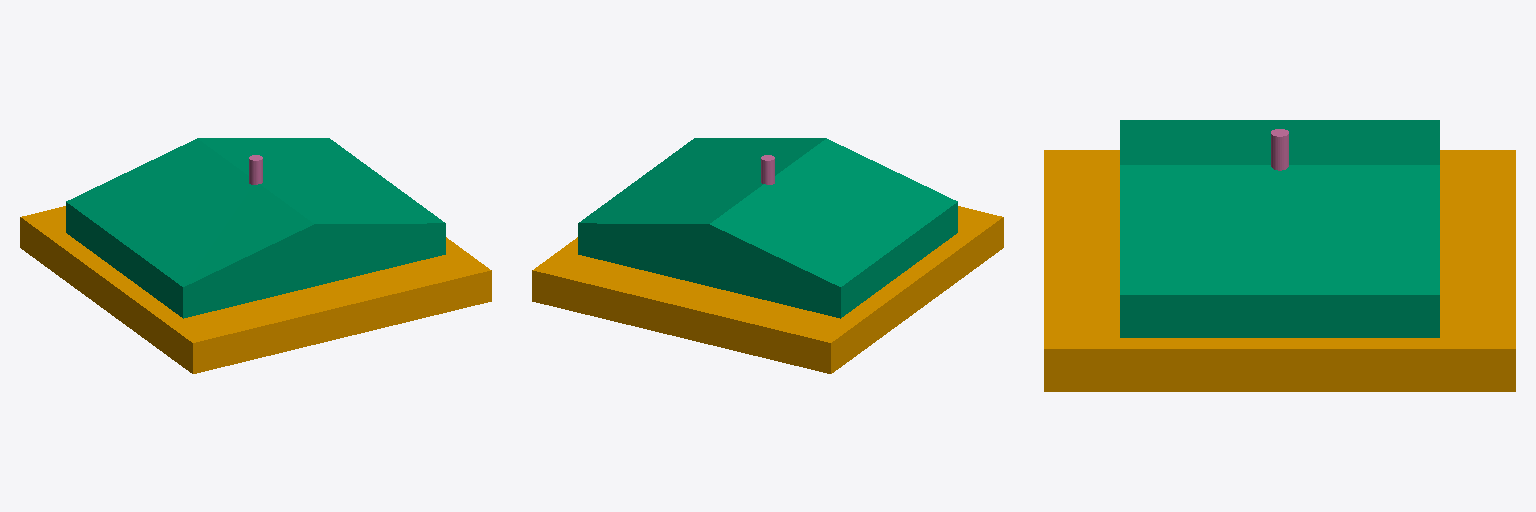
--- What the picture shows (computed from the rendered views, not written in the file) ---
Views: 3 orthographic renders of the robot side by side, from view 1: azimuth 30°, elevation 25°; view 2: azimuth 150°, elevation 25°; view 3: azimuth 270°, elevation 25°.
Robot: pagoda — 133 links, 132 joints (66 revolute, 66 prismatic); root link base_link; default pose: all joints at 0.
Links seen in each view (by area): view 1: Roof_link_virtual_yaw_link, base_link; view 2: Roof_link_virtual_yaw_link, base_link; view 3: Roof_link_virtual_yaw_link, base_link, Pole.010_link_virtual_yaw_link.
Link boxes in pixels (x1,y1,x2,y2): Roof_link_virtual_yaw_link: (66,138,445,318); base_link: (20,206,491,373); Roof_link_virtual_yaw_link: (578,138,957,318); base_link: (532,206,1003,373); Roof_link_virtual_yaw_link: (1120,120,1439,337); base_link: (1044,150,1515,391); Pole.010_link_virtual_yaw_link: (1271,129,1288,170).
Size in the robot's own frame: 0.5 by 0.5 by 0.1873 metres.
Meshes: 2 distinct files referenced, 2 mesh visuals loaded (2 binary STL).

robot.urdf — pagoda:
<?xml version='1.0' encoding='utf-8'?>
<robot name="pagoda" version="1.0">
  <link name="base_link">
    <collision name="Base_collision">
      <origin rpy="0.00000 0.00000 0.00000" xyz="0.00000 0.00000 -0.12479" />
      <geometry>
        <box size="0.50000 0.50000 0.05000" />
      </geometry>
    </collision>
    <visual name="Base">
      <material name="None" />
      <origin rpy="0.00000 0.00000 0.00000" xyz="0.00000 0.00000 -0.12479" />
      <geometry>
        <mesh filename="../meshes/stl/Cube.001.stl" scale="1.00000 1.00000 1.00000" />
      </geometry>
    </visual>
  </link>
  <link name="Pole.010_link_virtual_z_link"><inertial><mass value="0.001" /><inertia ixx="0.001" ixy="0" ixz="0" iyy="0.001" iyz="0" izz="0.001" /><origin rpy="0 0 0" xyz="0 0 0" /></inertial></link><link name="Pole.010_link_virtual_y_link"><inertial><mass value="0.001" /><inertia ixx="0.001" ixy="0" ixz="0" iyy="0.001" iyz="0" izz="0.001" /><origin rpy="0 0 0" xyz="0 0 0" /></inertial></link><link name="Pole.010_link_virtual_x_link"><inertial><mass value="0.001" /><inertia ixx="0.001" ixy="0" ixz="0" iyy="0.001" iyz="0" izz="0.001" /><origin rpy="0 0 0" xyz="0 0 0" /></inertial></link><link name="Pole.010_link_virtual_roll_link"><inertial><mass value="0.001" /><inertia ixx="0.001" ixy="0" ixz="0" iyy="0.001" iyz="0" izz="0.001" /><origin rpy="0 0 0" xyz="0 0 0" /></inertial></link><link name="Pole.010_link_virtual_pitch_link"><inertial><mass value="0.001" /><inertia ixx="0.001" ixy="0" ixz="0" iyy="0.001" iyz="0" izz="0.001" /><origin rpy="0 0 0" xyz="0 0 0" /></inertial></link><link name="Pole.010_link_virtual_yaw_link"><inertial><mass value="0.001" /><inertia ixx="0.001" ixy="0" ixz="0" iyy="0.001" iyz="0" izz="0.001" /><origin rpy="0 0 0" xyz="0 0 0" /></inertial><visual name="Pole.010">
      <material name="None" />
      <origin rpy="0.00000 0.00000 0.00000" xyz="-0.00000 -0.00000 -0.01250" />
      <geometry>
        <cylinder radius="0.01000" length="0.10000" />
      </geometry>
    </visual><collision name="Pole.010_collision">
      <origin rpy="0.00000 0.00000 0.00000" xyz="-0.00000 -0.00000 -0.01250" />
      <geometry>
        <cylinder radius="0.01000" length="0.10000" />
      </geometry>
    </collision></link><joint name="Pole.010_link_z_joint" type="prismatic"><parent link="base_link" /><child link="Pole.010_link_virtual_z_link" /><origin rpy="0 0 0" xyz="0 0 0" /><axis xyz="0 0 1" /><limit lower="-10.0" upper="10.0" effort="1000.0" velocity="5.0" /></joint><joint name="Pole.010_link_y_joint" type="prismatic"><parent link="Pole.010_link_virtual_z_link" /><child link="Pole.010_link_virtual_y_link" /><origin rpy="0 0 0" xyz="0 0 0" /><axis xyz="0 1 0" /><limit lower="-10.0" upper="10.0" effort="1000.0" velocity="5.0" /></joint><joint name="Pole.010_link_x_joint" type="prismatic"><parent link="Pole.010_link_virtual_y_link" /><child link="Pole.010_link_virtual_x_link" /><origin rpy="0 0 0" xyz="0 0 0" /><axis xyz="1 0 0" /><limit lower="-10.0" upper="10.0" effort="1000.0" velocity="5.0" /></joint><joint name="Pole.010_link_roll_joint" type="revolute"><parent link="Pole.010_link_virtual_x_link" /><child link="Pole.010_link_virtual_roll_link" /><origin rpy="0 0 0" xyz="0 0 0" /><axis xyz="1 0 0" /><limit lower="-3.14159" upper="3.14159" effort="1000.0" velocity="5.0" /></joint><joint name="Pole.010_link_pitch_joint" type="revolute"><parent link="Pole.010_link_virtual_roll_link" /><child link="Pole.010_link_virtual_pitch_link" /><origin rpy="0 0 0" xyz="0 0 0" /><axis xyz="0 1 0" /><limit lower="-3.14159" upper="3.14159" effort="1000.0" velocity="5.0" /></joint><joint name="Pole.010_link_yaw_joint" type="revolute"><parent link="Pole.010_link_virtual_pitch_link" /><child link="Pole.010_link_virtual_yaw_link" /><origin rpy="0 0 0" xyz="0 0 0" /><axis xyz="0 0 1" /><limit lower="-3.14159" upper="3.14159" effort="1000.0" velocity="5.0" /></joint><link name="Pole.019_link_virtual_z_link"><inertial><mass value="0.001" /><inertia ixx="0.001" ixy="0" ixz="0" iyy="0.001" iyz="0" izz="0.001" /><origin rpy="0 0 0" xyz="0 0 0" /></inertial></link><link name="Pole.019_link_virtual_y_link"><inertial><mass value="0.001" /><inertia ixx="0.001" ixy="0" ixz="0" iyy="0.001" iyz="0" izz="0.001" /><origin rpy="0 0 0" xyz="0 0 0" /></inertial></link><link name="Pole.019_link_virtual_x_link"><inertial><mass value="0.001" /><inertia ixx="0.001" ixy="0" ixz="0" iyy="0.001" iyz="0" izz="0.001" /><origin rpy="0 0 0" xyz="0 0 0" /></inertial></link><link name="Pole.019_link_virtual_roll_link"><inertial><mass value="0.001" /><inertia ixx="0.001" ixy="0" ixz="0" iyy="0.001" iyz="0" izz="0.001" /><origin rpy="0 0 0" xyz="0 0 0" /></inertial></link><link name="Pole.019_link_virtual_pitch_link"><inertial><mass value="0.001" /><inertia ixx="0.001" ixy="0" ixz="0" iyy="0.001" iyz="0" izz="0.001" /><origin rpy="0 0 0" xyz="0 0 0" /></inertial></link><link name="Pole.019_link_virtual_yaw_link"><inertial><mass value="0.001" /><inertia ixx="0.001" ixy="0" ixz="0" iyy="0.001" iyz="0" izz="0.001" /><origin rpy="0 0 0" xyz="0 0 0" /></inertial><visual name="Pole.019">
      <material name="None" />
      <origin rpy="0.00000 0.00000 0.00000" xyz="0.00000 -0.00000 -0.01250" />
      <geometry>
        <cylinder radius="0.01000" length="0.10000" />
      </geometry>
    </visual><collision name="Pole.019_collision">
      <origin rpy="0.00000 0.00000 0.00000" xyz="0.00000 -0.00000 -0.01250" />
      <geometry>
        <cylinder radius="0.01000" length="0.10000" />
      </geometry>
    </collision></link><joint name="Pole.019_link_z_joint" type="prismatic"><parent link="base_link" /><child link="Pole.019_link_virtual_z_link" /><origin rpy="0 0 0" xyz="0 0 0" /><axis xyz="0 0 1" /><limit lower="-10.0" upper="10.0" effort="1000.0" velocity="5.0" /></joint><joint name="Pole.019_link_y_joint" type="prismatic"><parent link="Pole.019_link_virtual_z_link" /><child link="Pole.019_link_virtual_y_link" /><origin rpy="0 0 0" xyz="0 0 0" /><axis xyz="0 1 0" /><limit lower="-10.0" upper="10.0" effort="1000.0" velocity="5.0" /></joint><joint name="Pole.019_link_x_joint" type="prismatic"><parent link="Pole.019_link_virtual_y_link" /><child link="Pole.019_link_virtual_x_link" /><origin rpy="0 0 0" xyz="0 0 0" /><axis xyz="1 0 0" /><limit lower="-10.0" upper="10.0" effort="1000.0" velocity="5.0" /></joint><joint name="Pole.019_link_roll_joint" type="revolute"><parent link="Pole.019_link_virtual_x_link" /><child link="Pole.019_link_virtual_roll_link" /><origin rpy="0 0 0" xyz="0 0 0" /><axis xyz="1 0 0" /><limit lower="-3.14159" upper="3.14159" effort="1000.0" velocity="5.0" /></joint><joint name="Pole.019_link_pitch_joint" type="revolute"><parent link="Pole.019_link_virtual_roll_link" /><child link="Pole.019_link_virtual_pitch_link" /><origin rpy="0 0 0" xyz="0 0 0" /><axis xyz="0 1 0" /><limit lower="-3.14159" upper="3.14159" effort="1000.0" velocity="5.0" /></joint><joint name="Pole.019_link_yaw_joint" type="revolute"><parent link="Pole.019_link_virtual_pitch_link" /><child link="Pole.019_link_virtual_yaw_link" /><origin rpy="0 0 0" xyz="0 0 0" /><axis xyz="0 0 1" /><limit lower="-3.14159" upper="3.14159" effort="1000.0" velocity="5.0" /></joint><link name="Pole.001_link_virtual_z_link"><inertial><mass value="0.001" /><inertia ixx="0.001" ixy="0" ixz="0" iyy="0.001" iyz="0" izz="0.001" /><origin rpy="0 0 0" xyz="0 0 0" /></inertial></link><link name="Pole.001_link_virtual_y_link"><inertial><mass value="0.001" /><inertia ixx="0.001" ixy="0" ixz="0" iyy="0.001" iyz="0" izz="0.001" /><origin rpy="0 0 0" xyz="0 0 0" /></inertial></link><link name="Pole.001_link_virtual_x_link"><inertial><mass value="0.001" /><inertia ixx="0.001" ixy="0" ixz="0" iyy="0.001" iyz="0" izz="0.001" /><origin rpy="0 0 0" xyz="0 0 0" /></inertial></link><link name="Pole.001_link_virtual_roll_link"><inertial><mass value="0.001" /><inertia ixx="0.001" ixy="0" ixz="0" iyy="0.001" iyz="0" izz="0.001" /><origin rpy="0 0 0" xyz="0 0 0" /></inertial></link><link name="Pole.001_link_virtual_pitch_link"><inertial><mass value="0.001" /><inertia ixx="0.001" ixy="0" ixz="0" iyy="0.001" iyz="0" izz="0.001" /><origin rpy="0 0 0" xyz="0 0 0" /></inertial></link><link name="Pole.001_link_virtual_yaw_link"><inertial><mass value="0.001" /><inertia ixx="0.001" ixy="0" ixz="0" iyy="0.001" iyz="0" izz="0.001" /><origin rpy="0 0 0" xyz="0 0 0" /></inertial><visual name="Pole.001">
      <material name="None" />
      <origin rpy="0.00000 0.00000 0.00000" xyz="-0.00000 -0.00000 -0.01250" />
      <geometry>
        <cylinder radius="0.01000" length="0.10000" />
      </geometry>
    </visual><collision name="Pole.001_collision">
      <origin rpy="0.00000 0.00000 0.00000" xyz="-0.00000 -0.00000 -0.01250" />
      <geometry>
        <cylinder radius="0.01000" length="0.10000" />
      </geometry>
    </collision></link><joint name="Pole.001_link_z_joint" type="prismatic"><parent link="base_link" /><child link="Pole.001_link_virtual_z_link" /><origin rpy="0 0 0" xyz="0 0 0" /><axis xyz="0 0 1" /><limit lower="-10.0" upper="10.0" effort="1000.0" velocity="5.0" /></joint><joint name="Pole.001_link_y_joint" type="prismatic"><parent link="Pole.001_link_virtual_z_link" /><child link="Pole.001_link_virtual_y_link" /><origin rpy="0 0 0" xyz="0 0 0" /><axis xyz="0 1 0" /><limit lower="-10.0" upper="10.0" effort="1000.0" velocity="5.0" /></joint><joint name="Pole.001_link_x_joint" type="prismatic"><parent link="Pole.001_link_virtual_y_link" /><child link="Pole.001_link_virtual_x_link" /><origin rpy="0 0 0" xyz="0 0 0" /><axis xyz="1 0 0" /><limit lower="-10.0" upper="10.0" effort="1000.0" velocity="5.0" /></joint><joint name="Pole.001_link_roll_joint" type="revolute"><parent link="Pole.001_link_virtual_x_link" /><child link="Pole.001_link_virtual_roll_link" /><origin rpy="0 0 0" xyz="0 0 0" /><axis xyz="1 0 0" /><limit lower="-3.14159" upper="3.14159" effort="1000.0" velocity="5.0" /></joint><joint name="Pole.001_link_pitch_joint" type="revolute"><parent link="Pole.001_link_virtual_roll_link" /><child link="Pole.001_link_virtual_pitch_link" /><origin rpy="0 0 0" xyz="0 0 0" /><axis xyz="0 1 0" /><limit lower="-3.14159" upper="3.14159" effort="1000.0" velocity="5.0" /></joint><joint name="Pole.001_link_yaw_joint" type="revolute"><parent link="Pole.001_link_virtual_pitch_link" /><child link="Pole.001_link_virtual_yaw_link" /><origin rpy="0 0 0" xyz="0 0 0" /><axis xyz="0 0 1" /><limit lower="-3.14159" upper="3.14159" effort="1000.0" velocity="5.0" /></joint><link name="Pole.020_link_virtual_z_link"><inertial><mass value="0.001" /><inertia ixx="0.001" ixy="0" ixz="0" iyy="0.001" iyz="0" izz="0.001" /><origin rpy="0 0 0" xyz="0 0 0" /></inertial></link><link name="Pole.020_link_virtual_y_link"><inertial><mass value="0.001" /><inertia ixx="0.001" ixy="0" ixz="0" iyy="0.001" iyz="0" izz="0.001" /><origin rpy="0 0 0" xyz="0 0 0" /></inertial></link><link name="Pole.020_link_virtual_x_link"><inertial><mass value="0.001" /><inertia ixx="0.001" ixy="0" ixz="0" iyy="0.001" iyz="0" izz="0.001" /><origin rpy="0 0 0" xyz="0 0 0" /></inertial></link><link name="Pole.020_link_virtual_roll_link"><inertial><mass value="0.001" /><inertia ixx="0.001" ixy="0" ixz="0" iyy="0.001" iyz="0" izz="0.001" /><origin rpy="0 0 0" xyz="0 0 0" /></inertial></link><link name="Pole.020_link_virtual_pitch_link"><inertial><mass value="0.001" /><inertia ixx="0.001" ixy="0" ixz="0" iyy="0.001" iyz="0" izz="0.001" /><origin rpy="0 0 0" xyz="0 0 0" /></inertial></link><link name="Pole.020_link_virtual_yaw_link"><inertial><mass value="0.001" /><inertia ixx="0.001" ixy="0" ixz="0" iyy="0.001" iyz="0" izz="0.001" /><origin rpy="0 0 0" xyz="0 0 0" /></inertial><visual name="Pole.020">
      <material name="None" />
      <origin rpy="0.00000 0.00000 0.00000" xyz="0.00000 -0.00000 -0.01250" />
      <geometry>
        <cylinder radius="0.01000" length="0.10000" />
      </geometry>
    </visual><collision name="Pole.020_collision">
      <origin rpy="0.00000 0.00000 0.00000" xyz="0.00000 -0.00000 -0.01250" />
      <geometry>
        <cylinder radius="0.01000" length="0.10000" />
      </geometry>
    </collision></link><joint name="Pole.020_link_z_joint" type="prismatic"><parent link="base_link" /><child link="Pole.020_link_virtual_z_link" /><origin rpy="0 0 0" xyz="0 0 0" /><axis xyz="0 0 1" /><limit lower="-10.0" upper="10.0" effort="1000.0" velocity="5.0" /></joint><joint name="Pole.020_link_y_joint" type="prismatic"><parent link="Pole.020_link_virtual_z_link" /><child link="Pole.020_link_virtual_y_link" /><origin rpy="0 0 0" xyz="0 0 0" /><axis xyz="0 1 0" /><limit lower="-10.0" upper="10.0" effort="1000.0" velocity="5.0" /></joint><joint name="Pole.020_link_x_joint" type="prismatic"><parent link="Pole.020_link_virtual_y_link" /><child link="Pole.020_link_virtual_x_link" /><origin rpy="0 0 0" xyz="0 0 0" /><axis xyz="1 0 0" /><limit lower="-10.0" upper="10.0" effort="1000.0" velocity="5.0" /></joint><joint name="Pole.020_link_roll_joint" type="revolute"><parent link="Pole.020_link_virtual_x_link" /><child link="Pole.020_link_virtual_roll_link" /><origin rpy="0 0 0" xyz="0 0 0" /><axis xyz="1 0 0" /><limit lower="-3.14159" upper="3.14159" effort="1000.0" velocity="5.0" /></joint><joint name="Pole.020_link_pitch_joint" type="revolute"><parent link="Pole.020_link_virtual_roll_link" /><child link="Pole.020_link_virtual_pitch_link" /><origin rpy="0 0 0" xyz="0 0 0" /><axis xyz="0 1 0" /><limit lower="-3.14159" upper="3.14159" effort="1000.0" velocity="5.0" /></joint><joint name="Pole.020_link_yaw_joint" type="revolute"><parent link="Pole.020_link_virtual_pitch_link" /><child link="Pole.020_link_virtual_yaw_link" /><origin rpy="0 0 0" xyz="0 0 0" /><axis xyz="0 0 1" /><limit lower="-3.14159" upper="3.14159" effort="1000.0" velocity="5.0" /></joint><link name="Pole.021_link_virtual_z_link"><inertial><mass value="0.001" /><inertia ixx="0.001" ixy="0" ixz="0" iyy="0.001" iyz="0" izz="0.001" /><origin rpy="0 0 0" xyz="0 0 0" /></inertial></link><link name="Pole.021_link_virtual_y_link"><inertial><mass value="0.001" /><inertia ixx="0.001" ixy="0" ixz="0" iyy="0.001" iyz="0" izz="0.001" /><origin rpy="0 0 0" xyz="0 0 0" /></inertial></link><link name="Pole.021_link_virtual_x_link"><inertial><mass value="0.001" /><inertia ixx="0.001" ixy="0" ixz="0" iyy="0.001" iyz="0" izz="0.001" /><origin rpy="0 0 0" xyz="0 0 0" /></inertial></link><link name="Pole.021_link_virtual_roll_link"><inertial><mass value="0.001" /><inertia ixx="0.001" ixy="0" ixz="0" iyy="0.001" iyz="0" izz="0.001" /><origin rpy="0 0 0" xyz="0 0 0" /></inertial></link><link name="Pole.021_link_virtual_pitch_link"><inertial><mass value="0.001" /><inertia ixx="0.001" ixy="0" ixz="0" iyy="0.001" iyz="0" izz="0.001" /><origin rpy="0 0 0" xyz="0 0 0" /></inertial></link><link name="Pole.021_link_virtual_yaw_link"><inertial><mass value="0.001" /><inertia ixx="0.001" ixy="0" ixz="0" iyy="0.001" iyz="0" izz="0.001" /><origin rpy="0 0 0" xyz="0 0 0" /></inertial><visual name="Pole.021">
      <material name="None" />
      <origin rpy="0.00000 0.00000 0.00000" xyz="0.00000 -0.00000 -0.01250" />
      <geometry>
        <cylinder radius="0.01000" length="0.10000" />
      </geometry>
    </visual><collision name="Pole.021_collision">
      <origin rpy="0.00000 0.00000 0.00000" xyz="0.00000 -0.00000 -0.01250" />
      <geometry>
        <cylinder radius="0.01000" length="0.10000" />
      </geometry>
    </collision></link><joint name="Pole.021_link_z_joint" type="prismatic"><parent link="base_link" /><child link="Pole.021_link_virtual_z_link" /><origin rpy="0 0 0" xyz="0 0 0" /><axis xyz="0 0 1" /><limit lower="-10.0" upper="10.0" effort="1000.0" velocity="5.0" /></joint><joint name="Pole.021_link_y_joint" type="prismatic"><parent link="Pole.021_link_virtual_z_link" /><child link="Pole.021_link_virtual_y_link" /><origin rpy="0 0 0" xyz="0 0 0" /><axis xyz="0 1 0" /><limit lower="-10.0" upper="10.0" effort="1000.0" velocity="5.0" /></joint><joint name="Pole.021_link_x_joint" type="prismatic"><parent link="Pole.021_link_virtual_y_link" /><child link="Pole.021_link_virtual_x_link" /><origin rpy="0 0 0" xyz="0 0 0" /><axis xyz="1 0 0" /><limit lower="-10.0" upper="10.0" effort="1000.0" velocity="5.0" /></joint><joint name="Pole.021_link_roll_joint" type="revolute"><parent link="Pole.021_link_virtual_x_link" /><child link="Pole.021_link_virtual_roll_link" /><origin rpy="0 0 0" xyz="0 0 0" /><axis xyz="1 0 0" /><limit lower="-3.14159" upper="3.14159" effort="1000.0" velocity="5.0" /></joint><joint name="Pole.021_link_pitch_joint" type="revolute"><parent link="Pole.021_link_virtual_roll_link" /><child link="Pole.021_link_virtual_pitch_link" /><origin rpy="0 0 0" xyz="0 0 0" /><axis xyz="0 1 0" /><limit lower="-3.14159" upper="3.14159" effort="1000.0" velocity="5.0" /></joint><joint name="Pole.021_link_yaw_joint" type="revolute"><parent link="Pole.021_link_virtual_pitch_link" /><child link="Pole.021_link_virtual_yaw_link" /><origin rpy="0 0 0" xyz="0 0 0" /><axis xyz="0 0 1" /><limit lower="-3.14159" upper="3.14159" effort="1000.0" velocity="5.0" /></joint><link name="Pole.002_link_virtual_z_link"><inertial><mass value="0.001" /><inertia ixx="0.001" ixy="0" ixz="0" iyy="0.001" iyz="0" izz="0.001" /><origin rpy="0 0 0" xyz="0 0 0" /></inertial></link><link name="Pole.002_link_virtual_y_link"><inertial><mass value="0.001" /><inertia ixx="0.001" ixy="0" ixz="0" iyy="0.001" iyz="0" izz="0.001" /><origin rpy="0 0 0" xyz="0 0 0" /></inertial></link><link name="Pole.002_link_virtual_x_link"><inertial><mass value="0.001" /><inertia ixx="0.001" ixy="0" ixz="0" iyy="0.001" iyz="0" izz="0.001" /><origin rpy="0 0 0" xyz="0 0 0" /></inertial></link><link name="Pole.002_link_virtual_roll_link"><inertial><mass value="0.001" /><inertia ixx="0.001" ixy="0" ixz="0" iyy="0.001" iyz="0" izz="0.001" /><origin rpy="0 0 0" xyz="0 0 0" /></inertial></link><link name="Pole.002_link_virtual_pitch_link"><inertial><mass value="0.001" /><inertia ixx="0.001" ixy="0" ixz="0" iyy="0.001" iyz="0" izz="0.001" /><origin rpy="0 0 0" xyz="0 0 0" /></inertial></link><link name="Pole.002_link_virtual_yaw_link"><inertial><mass value="0.001" /><inertia ixx="0.001" ixy="0" ixz="0" iyy="0.001" iyz="0" izz="0.001" /><origin rpy="0 0 0" xyz="0 0 0" /></inertial><visual name="Pole.002">
      <material name="None" />
      <origin rpy="0.00000 0.00000 0.00000" xyz="-0.00000 -0.00000 -0.01250" />
      <geometry>
        <cylinder radius="0.01000" length="0.10000" />
      </geometry>
    </visual><collision name="Pole.002_collision">
      <origin rpy="0.00000 0.00000 0.00000" xyz="-0.00000 -0.00000 -0.01250" />
      <geometry>
        <cylinder radius="0.01000" length="0.10000" />
      </geometry>
    </collision></link><joint name="Pole.002_link_z_joint" type="prismatic"><parent link="base_link" /><child link="Pole.002_link_virtual_z_link" /><origin rpy="0 0 0" xyz="0 0 0" /><axis xyz="0 0 1" /><limit lower="-10.0" upper="10.0" effort="1000.0" velocity="5.0" /></joint><joint name="Pole.002_link_y_joint" type="prismatic"><parent link="Pole.002_link_virtual_z_link" /><child link="Pole.002_link_virtual_y_link" /><origin rpy="0 0 0" xyz="0 0 0" /><axis xyz="0 1 0" /><limit lower="-10.0" upper="10.0" effort="1000.0" velocity="5.0" /></joint><joint name="Pole.002_link_x_joint" type="prismatic"><parent link="Pole.002_link_virtual_y_link" /><child link="Pole.002_link_virtual_x_link" /><origin rpy="0 0 0" xyz="0 0 0" /><axis xyz="1 0 0" /><limit lower="-10.0" upper="10.0" effort="1000.0" velocity="5.0" /></joint><joint name="Pole.002_link_roll_joint" type="revolute"><parent link="Pole.002_link_virtual_x_link" /><child link="Pole.002_link_virtual_roll_link" /><origin rpy="0 0 0" xyz="0 0 0" /><axis xyz="1 0 0" /><limit lower="-3.14159" upper="3.14159" effort="1000.0" velocity="5.0" /></joint><joint name="Pole.002_link_pitch_joint" type="revolute"><parent link="Pole.002_link_virtual_roll_link" /><child link="Pole.002_link_virtual_pitch_link" /><origin rpy="0 0 0" xyz="0 0 0" /><axis xyz="0 1 0" /><limit lower="-3.14159" upper="3.14159" effort="1000.0" velocity="5.0" /></joint><joint name="Pole.002_link_yaw_joint" type="revolute"><parent link="Pole.002_link_virtual_pitch_link" /><child link="Pole.002_link_virtual_yaw_link" /><origin rpy="0 0 0" xyz="0 0 0" /><axis xyz="0 0 1" /><limit lower="-3.14159" upper="3.14159" effort="1000.0" velocity="5.0" /></joint><link name="Pole.003_link_virtual_z_link"><inertial><mass value="0.001" /><inertia ixx="0.001" ixy="0" ixz="0" iyy="0.001" iyz="0" izz="0.001" /><origin rpy="0 0 0" xyz="0 0 0" /></inertial></link><link name="Pole.003_link_virtual_y_link"><inertial><mass value="0.001" /><inertia ixx="0.001" ixy="0" ixz="0" iyy="0.001" iyz="0" izz="0.001" /><origin rpy="0 0 0" xyz="0 0 0" /></inertial></link><link name="Pole.003_link_virtual_x_link"><inertial><mass value="0.001" /><inertia ixx="0.001" ixy="0" ixz="0" iyy="0.001" iyz="0" izz="0.001" /><origin rpy="0 0 0" xyz="0 0 0" /></inertial></link><link name="Pole.003_link_virtual_roll_link"><inertial><mass value="0.001" /><inertia ixx="0.001" ixy="0" ixz="0" iyy="0.001" iyz="0" izz="0.001" /><origin rpy="0 0 0" xyz="0 0 0" /></inertial></link><link name="Pole.003_link_virtual_pitch_link"><inertial><mass value="0.001" /><inertia ixx="0.001" ixy="0" ixz="0" iyy="0.001" iyz="0" izz="0.001" /><origin rpy="0 0 0" xyz="0 0 0" /></inertial></link><link name="Pole.003_link_virtual_yaw_link"><inertial><mass value="0.001" /><inertia ixx="0.001" ixy="0" ixz="0" iyy="0.001" iyz="0" izz="0.001" /><origin rpy="0 0 0" xyz="0 0 0" /></inertial><visual name="Pole.003">
      <material name="None" />
      <origin rpy="0.00000 0.00000 0.00000" xyz="-0.00000 -0.00000 -0.01250" />
      <geometry>
        <cylinder radius="0.01000" length="0.10000" />
      </geometry>
    </visual><collision name="Pole.003_collision">
      <origin rpy="0.00000 0.00000 0.00000" xyz="-0.00000 -0.00000 -0.01250" />
      <geometry>
        <cylinder radius="0.01000" length="0.10000" />
      </geometry>
    </collision></link><joint name="Pole.003_link_z_joint" type="prismatic"><parent link="base_link" /><child link="Pole.003_link_virtual_z_link" /><origin rpy="0 0 0" xyz="0 0 0" /><axis xyz="0 0 1" /><limit lower="-10.0" upper="10.0" effort="1000.0" velocity="5.0" /></joint><joint name="Pole.003_link_y_joint" type="prismatic"><parent link="Pole.003_link_virtual_z_link" /><child link="Pole.003_link_virtual_y_link" /><origin rpy="0 0 0" xyz="0 0 0" /><axis xyz="0 1 0" /><limit lower="-10.0" upper="10.0" effort="1000.0" velocity="5.0" /></joint><joint name="Pole.003_link_x_joint" type="prismatic"><parent link="Pole.003_link_virtual_y_link" /><child link="Pole.003_link_virtual_x_link" /><origin rpy="0 0 0" xyz="0 0 0" /><axis xyz="1 0 0" /><limit lower="-10.0" upper="10.0" effort="1000.0" velocity="5.0" /></joint><joint name="Pole.003_link_roll_joint" type="revolute"><parent link="Pole.003_link_virtual_x_link" /><child link="Pole.003_link_virtual_roll_link" /><origin rpy="0 0 0" xyz="0 0 0" /><axis xyz="1 0 0" /><limit lower="-3.14159" upper="3.14159" effort="1000.0" velocity="5.0" /></joint><joint name="Pole.003_link_pitch_joint" type="revolute"><parent link="Pole.003_link_virtual_roll_link" /><child link="Pole.003_link_virtual_pitch_link" /><origin rpy="0 0 0" xyz="0 0 0" /><axis xyz="0 1 0" /><limit lower="-3.14159" upper="3.14159" effort="1000.0" velocity="5.0" /></joint><joint name="Pole.003_link_yaw_joint" type="revolute"><parent link="Pole.003_link_virtual_pitch_link" /><child link="Pole.003_link_virtual_yaw_link" /><origin rpy="0 0 0" xyz="0 0 0" /><axis xyz="0 0 1" /><limit lower="-3.14159" upper="3.14159" effort="1000.0" velocity="5.0" /></joint><link name="Pole.004_link_virtual_z_link"><inertial><mass value="0.001" /><inertia ixx="0.001" ixy="0" ixz="0" iyy="0.001" iyz="0" izz="0.001" /><origin rpy="0 0 0" xyz="0 0 0" /></inertial></link><link name="Pole.004_link_virtual_y_link"><inertial><mass value="0.001" /><inertia ixx="0.001" ixy="0" ixz="0" iyy="0.001" iyz="0" izz="0.001" /><origin rpy="0 0 0" xyz="0 0 0" /></inertial></link><link name="Pole.004_link_virtual_x_link"><inertial><mass value="0.001" /><inertia ixx="0.001" ixy="0" ixz="0" iyy="0.001" iyz="0" izz="0.001" /><origin rpy="0 0 0" xyz="0 0 0" /></inertial></link><link name="Pole.004_link_virtual_roll_link"><inertial><mass value="0.001" /><inertia ixx="0.001" ixy="0" ixz="0" iyy="0.001" iyz="0" izz="0.001" /><origin rpy="0 0 0" xyz="0 0 0" /></inertial></link><link name="Pole.004_link_virtual_pitch_link"><inertial><mass value="0.001" /><inertia ixx="0.001" ixy="0" ixz="0" iyy="0.001" iyz="0" izz="0.001" /><origin rpy="0 0 0" xyz="0 0 0" /></inertial></link><link name="Pole.004_link_virtual_yaw_link"><inertial><mass value="0.001" /><inertia ixx="0.001" ixy="0" ixz="0" iyy="0.001" iyz="0" izz="0.001" /><origin rpy="0 0 0" xyz="0 0 0" /></inertial><visual name="Pole.004">
      <material name="None" />
      <origin rpy="0.00000 0.00000 0.00000" xyz="0.00000 0.00000 -0.01250" />
      <geometry>
        <cylinder radius="0.01000" length="0.10000" />
      </geometry>
    </visual><collision name="Pole.004_collision">
      <origin rpy="0.00000 0.00000 0.00000" xyz="-0.00000 0.00000 -0.01250" />
      <geometry>
        <cylinder radius="0.01000" length="0.10000" />
      </geometry>
    </collision></link><joint name="Pole.004_link_z_joint" type="prismatic"><parent link="base_link" /><child link="Pole.004_link_virtual_z_link" /><origin rpy="0 0 0" xyz="0 0 0" /><axis xyz="0 0 1" /><limit lower="-10.0" upper="10.0" effort="1000.0" velocity="5.0" /></joint><joint name="Pole.004_link_y_joint" type="prismatic"><parent link="Pole.004_link_virtual_z_link" /><child link="Pole.004_link_virtual_y_link" /><origin rpy="0 0 0" xyz="0 0 0" /><axis xyz="0 1 0" /><limit lower="-10.0" upper="10.0" effort="1000.0" velocity="5.0" /></joint><joint name="Pole.004_link_x_joint" type="prismatic"><parent link="Pole.004_link_virtual_y_link" /><child link="Pole.004_link_virtual_x_link" /><origin rpy="0 0 0" xyz="0 0 0" /><axis xyz="1 0 0" /><limit lower="-10.0" upper="10.0" effort="1000.0" velocity="5.0" /></joint><joint name="Pole.004_link_roll_joint" type="revolute"><parent link="Pole.004_link_virtual_x_link" /><child link="Pole.004_link_virtual_roll_link" /><origin rpy="0 0 0" xyz="0 0 0" /><axis xyz="1 0 0" /><limit lower="-3.14159" upper="3.14159" effort="1000.0" velocity="5.0" /></joint><joint name="Pole.004_link_pitch_joint" type="revolute"><parent link="Pole.004_link_virtual_roll_link" /><child link="Pole.004_link_virtual_pitch_link" /><origin rpy="0 0 0" xyz="0 0 0" /><axis xyz="0 1 0" /><limit lower="-3.14159" upper="3.14159" effort="1000.0" velocity="5.0" /></joint><joint name="Pole.004_link_yaw_joint" type="revolute"><parent link="Pole.004_link_virtual_pitch_link" /><child link="Pole.004_link_virtual_yaw_link" /><origin rpy="0 0 0" xyz="0 0 0" /><axis xyz="0 0 1" /><limit lower="-3.14159" upper="3.14159" effort="1000.0" velocity="5.0" /></joint><link name="Pole.005_link_virtual_z_link"><inertial><mass value="0.001" /><inertia ixx="0.001" ixy="0" ixz="0" iyy="0.001" iyz="0" izz="0.001" /><origin rpy="0 0 0" xyz="0 0 0" /></inertial></link><link name="Pole.005_link_virtual_y_link"><inertial><mass value="0.001" /><inertia ixx="0.001" ixy="0" ixz="0" iyy="0.001" iyz="0" izz="0.001" /><origin rpy="0 0 0" xyz="0 0 0" /></inertial></link><link name="Pole.005_link_virtual_x_link"><inertial><mass value="0.001" /><inertia ixx="0.001" ixy="0" ixz="0" iyy="0.001" iyz="0" izz="0.001" /><origin rpy="0 0 0" xyz="0 0 0" /></inertial></link><link name="Pole.005_link_virtual_roll_link"><inertial><mass value="0.001" /><inertia ixx="0.001" ixy="0" ixz="0" iyy="0.001" iyz="0" izz="0.001" /><origin rpy="0 0 0" xyz="0 0 0" /></inertial></link><link name="Pole.005_link_virtual_pitch_link"><inertial><mass value="0.001" /><inertia ixx="0.001" ixy="0" ixz="0" iyy="0.001" iyz="0" izz="0.001" /><origin rpy="0 0 0" xyz="0 0 0" /></inertial></link><link name="Pole.005_link_virtual_yaw_link"><inertial><mass value="0.001" /><inertia ixx="0.001" ixy="0" ixz="0" iyy="0.001" iyz="0" izz="0.001" /><origin rpy="0 0 0" xyz="0 0 0" /></inertial><visual name="Pole.005">
      <material name="None" />
      <origin rpy="0.00000 0.00000 0.00000" xyz="0.00000 0.00000 -0.01250" />
      <geometry>
        <cylinder radius="0.01000" length="0.10000" />
      </geometry>
    </visual><collision name="Pole.005_collision">
      <origin rpy="0.00000 0.00000 0.00000" xyz="-0.00000 0.00000 -0.01250" />
      <geometry>
        <cylinder radius="0.01000" length="0.10000" />
      </geometry>
    </collision></link><joint name="Pole.005_link_z_joint" type="prismatic"><parent link="base_link" /><child link="Pole.005_link_virtual_z_link" /><origin rpy="0 0 0" xyz="0 0 0" /><axis xyz="0 0 1" /><limit lower="-10.0" upper="10.0" effort="1000.0" velocity="5.0" /></joint><joint name="Pole.005_link_y_joint" type="prismatic"><parent link="Pole.005_link_virtual_z_link" /><child link="Pole.005_link_virtual_y_link" /><origin rpy="0 0 0" xyz="0 0 0" /><axis xyz="0 1 0" /><limit lower="-10.0" upper="10.0" effort="1000.0" velocity="5.0" /></joint><joint name="Pole.005_link_x_joint" type="prismatic"><parent link="Pole.005_link_virtual_y_link" /><child link="Pole.005_link_virtual_x_link" /><origin rpy="0 0 0" xyz="0 0 0" /><axis xyz="1 0 0" /><limit lower="-10.0" upper="10.0" effort="1000.0" velocity="5.0" /></joint><joint name="Pole.005_link_roll_joint" type="revolute"><parent link="Pole.005_link_virtual_x_link" /><child link="Pole.005_link_virtual_roll_link" /><origin rpy="0 0 0" xyz="0 0 0" /><axis xyz="1 0 0" /><limit lower="-3.14159" upper="3.14159" effort="1000.0" velocity="5.0" /></joint><joint name="Pole.005_link_pitch_joint" type="revolute"><parent link="Pole.005_link_virtual_roll_link" /><child link="Pole.005_link_virtual_pitch_link" /><origin rpy="0 0 0" xyz="0 0 0" /><axis xyz="0 1 0" /><limit lower="-3.14159" upper="3.14159" effort="1000.0" velocity="5.0" /></joint><joint name="Pole.005_link_yaw_joint" type="revolute"><parent link="Pole.005_link_virtual_pitch_link" /><child link="Pole.005_link_virtual_yaw_link" /><origin rpy="0 0 0" xyz="0 0 0" /><axis xyz="0 0 1" /><limit lower="-3.14159" upper="3.14159" effort="1000.0" velocity="5.0" /></joint><link name="Pole.006_link_virtual_z_link"><inertial><mass value="0.001" /><inertia ixx="0.001" ixy="0" ixz="0" iyy="0.001" iyz="0" izz="0.001" /><origin rpy="0 0 0" xyz="0 0 0" /></inertial></link><link name="Pole.006_link_virtual_y_link"><inertial><mass value="0.001" /><inertia ixx="0.001" ixy="0" ixz="0" iyy="0.001" iyz="0" izz="0.001" /><origin rpy="0 0 0" xyz="0 0 0" /></inertial></link><link name="Pole.006_link_virtual_x_link"><inertial><mass value="0.001" /><inertia ixx="0.001" ixy="0" ixz="0" iyy="0.001" iyz="0" izz="0.001" /><origin rpy="0 0 0" xyz="0 0 0" /></inertial></link><link name="Pole.006_link_virtual_roll_link"><inertial><mass value="0.001" /><inertia ixx="0.001" ixy="0" ixz="0" iyy="0.001" iyz="0" izz="0.001" /><origin rpy="0 0 0" xyz="0 0 0" /></inertial></link><link name="Pole.006_link_virtual_pitch_link"><inertial><mass value="0.001" /><inertia ixx="0.001" ixy="0" ixz="0" iyy="0.001" iyz="0" izz="0.001" /><origin rpy="0 0 0" xyz="0 0 0" /></inertial></link><link name="Pole.006_link_virtual_yaw_link"><inertial><mass value="0.001" /><inertia ixx="0.001" ixy="0" ixz="0" iyy="0.001" iyz="0" izz="0.001" /><origin rpy="0 0 0" xyz="0 0 0" /></inertial><visual name="Pole.006">
      <material name="None" />
      <origin rpy="0.00000 0.00000 0.00000" xyz="0.00000 0.00000 -0.01250" />
      <geometry>
        <cylinder radius="0.01000" length="0.10000" />
      </geometry>
    </visual><collision name="Pole.006_collision">
      <origin rpy="0.00000 0.00000 0.00000" xyz="-0.00000 0.00000 -0.01250" />
      <geometry>
        <cylinder radius="0.01000" length="0.10000" />
      </geometry>
    </collision></link><joint name="Pole.006_link_z_joint" type="prismatic"><parent link="base_link" /><child link="Pole.006_link_virtual_z_link" /><origin rpy="0 0 0" xyz="0 0 0" /><axis xyz="0 0 1" /><limit lower="-10.0" upper="10.0" effort="1000.0" velocity="5.0" /></joint><joint name="Pole.006_link_y_joint" type="prismatic"><parent link="Pole.006_link_virtual_z_link" /><child link="Pole.006_link_virtual_y_link" /><origin rpy="0 0 0" xyz="0 0 0" /><axis xyz="0 1 0" /><limit lower="-10.0" upper="10.0" effort="1000.0" velocity="5.0" /></joint><joint name="Pole.006_link_x_joint" type="prismatic"><parent link="Pole.006_link_virtual_y_link" /><child link="Pole.006_link_virtual_x_link" /><origin rpy="0 0 0" xyz="0 0 0" /><axis xyz="1 0 0" /><limit lower="-10.0" upper="10.0" effort="1000.0" velocity="5.0" /></joint><joint name="Pole.006_link_roll_joint" type="revolute"><parent link="Pole.006_link_virtual_x_link" /><child link="Pole.006_link_virtual_roll_link" /><origin rpy="0 0 0" xyz="0 0 0" /><axis xyz="1 0 0" /><limit lower="-3.14159" upper="3.14159" effort="1000.0" velocity="5.0" /></joint><joint name="Pole.006_link_pitch_joint" type="revolute"><parent link="Pole.006_link_virtual_roll_link" /><child link="Pole.006_link_virtual_pitch_link" /><origin rpy="0 0 0" xyz="0 0 0" /><axis xyz="0 1 0" /><limit lower="-3.14159" upper="3.14159" effort="1000.0" velocity="5.0" /></joint><joint name="Pole.006_link_yaw_joint" type="revolute"><parent link="Pole.006_link_virtual_pitch_link" /><child link="Pole.006_link_virtual_yaw_link" /><origin rpy="0 0 0" xyz="0 0 0" /><axis xyz="0 0 1" /><limit lower="-3.14159" upper="3.14159" effort="1000.0" velocity="5.0" /></joint><link name="Pole.007_link_virtual_z_link"><inertial><mass value="0.001" /><inertia ixx="0.001" ixy="0" ixz="0" iyy="0.001" iyz="0" izz="0.001" /><origin rpy="0 0 0" xyz="0 0 0" /></inertial></link><link name="Pole.007_link_virtual_y_link"><inertial><mass value="0.001" /><inertia ixx="0.001" ixy="0" ixz="0" iyy="0.001" iyz="0" izz="0.001" /><origin rpy="0 0 0" xyz="0 0 0" /></inertial></link><link name="Pole.007_link_virtual_x_link"><inertial><mass value="0.001" /><inertia ixx="0.001" ixy="0" ixz="0" iyy="0.001" iyz="0" izz="0.001" /><origin rpy="0 0 0" xyz="0 0 0" /></inertial></link><link name="Pole.007_link_virtual_roll_link"><inertial><mass value="0.001" /><inertia ixx="0.001" ixy="0" ixz="0" iyy="0.001" iyz="0" izz="0.001" /><origin rpy="0 0 0" xyz="0 0 0" /></inertial></link><link name="Pole.007_link_virtual_pitch_link"><inertial><mass value="0.001" /><inertia ixx="0.001" ixy="0" ixz="0" iyy="0.001" iyz="0" izz="0.001" /><origin rpy="0 0 0" xyz="0 0 0" /></inertial></link><link name="Pole.007_link_virtual_yaw_link"><inertial><mass value="0.001" /><inertia ixx="0.001" ixy="0" ixz="0" iyy="0.001" iyz="0" izz="0.001" /><origin rpy="0 0 0" xyz="0 0 0" /></inertial><visual name="Pole.007">
      <material name="None" />
      <origin rpy="0.00000 0.00000 0.00000" xyz="-0.00000 -0.00000 -0.01250" />
      <geometry>
        <cylinder radius="0.01000" length="0.10000" />
      </geometry>
    </visual><collision name="Pole.007_collision">
      <origin rpy="0.00000 0.00000 0.00000" xyz="-0.00000 -0.00000 -0.01250" />
      <geometry>
        <cylinder radius="0.01000" length="0.10000" />
      </geometry>
    </collision></link><joint name="Pole.007_link_z_joint" type="prismatic"><parent link="base_link" /><child link="Pole.007_link_virtual_z_link" /><origin rpy="0 0 0" xyz="0 0 0" /><axis xyz="0 0 1" /><limit lower="-10.0" upper="10.0" effort="1000.0" velocity="5.0" /></joint><joint name="Pole.007_link_y_joint" type="prismatic"><parent link="Pole.007_link_virtual_z_link" /><child link="Pole.007_link_virtual_y_link" /><origin rpy="0 0 0" xyz="0 0 0" /><axis xyz="0 1 0" /><limit lower="-10.0" upper="10.0" effort="1000.0" velocity="5.0" /></joint><joint name="Pole.007_link_x_joint" type="prismatic"><parent link="Pole.007_link_virtual_y_link" /><child link="Pole.007_link_virtual_x_link" /><origin rpy="0 0 0" xyz="0 0 0" /><axis xyz="1 0 0" /><limit lower="-10.0" upper="10.0" effort="1000.0" velocity="5.0" /></joint><joint name="Pole.007_link_roll_joint" type="revolute"><parent link="Pole.007_link_virtual_x_link" /><child link="Pole.007_link_virtual_roll_link" /><origin rpy="0 0 0" xyz="0 0 0" /><axis xyz="1 0 0" /><limit lower="-3.14159" upper="3.14159" effort="1000.0" velocity="5.0" /></joint><joint name="Pole.007_link_pitch_joint" type="revolute"><parent link="Pole.007_link_virtual_roll_link" /><child link="Pole.007_link_virtual_pitch_link" /><origin rpy="0 0 0" xyz="0 0 0" /><axis xyz="0 1 0" /><limit lower="-3.14159" upper="3.14159" effort="1000.0" velocity="5.0" /></joint><joint name="Pole.007_link_yaw_joint" type="revolute"><parent link="Pole.007_link_virtual_pitch_link" /><child link="Pole.007_link_virtual_yaw_link" /><origin rpy="0 0 0" xyz="0 0 0" /><axis xyz="0 0 1" /><limit lower="-3.14159" upper="3.14159" effort="1000.0" velocity="5.0" /></joint><link name="Pole.011_link_virtual_z_link"><inertial><mass value="0.001" /><inertia ixx="0.001" ixy="0" ixz="0" iyy="0.001" iyz="0" izz="0.001" /><origin rpy="0 0 0" xyz="0 0 0" /></inertial></link><link name="Pole.011_link_virtual_y_link"><inertial><mass value="0.001" /><inertia ixx="0.001" ixy="0" ixz="0" iyy="0.001" iyz="0" izz="0.001" /><origin rpy="0 0 0" xyz="0 0 0" /></inertial></link><link name="Pole.011_link_virtual_x_link"><inertial><mass value="0.001" /><inertia ixx="0.001" ixy="0" ixz="0" iyy="0.001" iyz="0" izz="0.001" /><origin rpy="0 0 0" xyz="0 0 0" /></inertial></link><link name="Pole.011_link_virtual_roll_link"><inertial><mass value="0.001" /><inertia ixx="0.001" ixy="0" ixz="0" iyy="0.001" iyz="0" izz="0.001" /><origin rpy="0 0 0" xyz="0 0 0" /></inertial></link><link name="Pole.011_link_virtual_pitch_link"><inertial><mass value="0.001" /><inertia ixx="0.001" ixy="0" ixz="0" iyy="0.001" iyz="0" izz="0.001" /><origin rpy="0 0 0" xyz="0 0 0" /></inertial></link><link name="Pole.011_link_virtual_yaw_link"><inertial><mass value="0.001" /><inertia ixx="0.001" ixy="0" ixz="0" iyy="0.001" iyz="0" izz="0.001" /><origin rpy="0 0 0" xyz="0 0 0" /></inertial><visual name="Pole.011">
      <material name="None" />
      <origin rpy="0.00000 0.00000 0.00000" xyz="-0.00000 -0.00000 -0.01250" />
      <geometry>
        <cylinder radius="0.01000" length="0.10000" />
      </geometry>
    </visual><collision name="Pole.011_collision">
      <origin rpy="0.00000 0.00000 0.00000" xyz="-0.00000 -0.00000 -0.01250" />
      <geometry>
        <cylinder radius="0.01000" length="0.10000" />
      </geometry>
    </collision></link><joint name="Pole.011_link_z_joint" type="prismatic"><parent link="base_link" /><child link="Pole.011_link_virtual_z_link" /><origin rpy="0 0 0" xyz="0 0 0" /><axis xyz="0 0 1" /><limit lower="-10.0" upper="10.0" effort="1000.0" velocity="5.0" /></joint><joint name="Pole.011_link_y_joint" type="prismatic"><parent link="Pole.011_link_virtual_z_link" /><child link="Pole.011_link_virtual_y_link" /><origin rpy="0 0 0" xyz="0 0 0" /><axis xyz="0 1 0" /><limit lower="-10.0" upper="10.0" effort="1000.0" velocity="5.0" /></joint><joint name="Pole.011_link_x_joint" type="prismatic"><parent link="Pole.011_link_virtual_y_link" /><child link="Pole.011_link_virtual_x_link" /><origin rpy="0 0 0" xyz="0 0 0" /><axis xyz="1 0 0" /><limit lower="-10.0" upper="10.0" effort="1000.0" velocity="5.0" /></joint><joint name="Pole.011_link_roll_joint" type="revolute"><parent link="Pole.011_link_virtual_x_link" /><child link="Pole.011_link_virtual_roll_link" /><origin rpy="0 0 0" xyz="0 0 0" /><axis xyz="1 0 0" /><limit lower="-3.14159" upper="3.14159" effort="1000.0" velocity="5.0" /></joint><joint name="Pole.011_link_pitch_joint" type="revolute"><parent link="Pole.011_link_virtual_roll_link" /><child link="Pole.011_link_virtual_pitch_link" /><origin rpy="0 0 0" xyz="0 0 0" /><axis xyz="0 1 0" /><limit lower="-3.14159" upper="3.14159" effort="1000.0" velocity="5.0" /></joint><joint name="Pole.011_link_yaw_joint" type="revolute"><parent link="Pole.011_link_virtual_pitch_link" /><child link="Pole.011_link_virtual_yaw_link" /><origin rpy="0 0 0" xyz="0 0 0" /><axis xyz="0 0 1" /><limit lower="-3.14159" upper="3.14159" effort="1000.0" velocity="5.0" /></joint><link name="Pole.008_link_virtual_z_link"><inertial><mass value="0.001" /><inertia ixx="0.001" ixy="0" ixz="0" iyy="0.001" iyz="0" izz="0.001" /><origin rpy="0 0 0" xyz="0 0 0" /></inertial></link><link name="Pole.008_link_virtual_y_link"><inertial><mass value="0.001" /><inertia ixx="0.001" ixy="0" ixz="0" iyy="0.001" iyz="0" izz="0.001" /><origin rpy="0 0 0" xyz="0 0 0" /></inertial></link><link name="Pole.008_link_virtual_x_link"><inertial><mass value="0.001" /><inertia ixx="0.001" ixy="0" ixz="0" iyy="0.001" iyz="0" izz="0.001" /><origin rpy="0 0 0" xyz="0 0 0" /></inertial></link><link name="Pole.008_link_virtual_roll_link"><inertial><mass value="0.001" /><inertia ixx="0.001" ixy="0" ixz="0" iyy="0.001" iyz="0" izz="0.001" /><origin rpy="0 0 0" xyz="0 0 0" /></inertial></link><link name="Pole.008_link_virtual_pitch_link"><inertial><mass value="0.001" /><inertia ixx="0.001" ixy="0" ixz="0" iyy="0.001" iyz="0" izz="0.001" /><origin rpy="0 0 0" xyz="0 0 0" /></inertial></link><link name="Pole.008_link_virtual_yaw_link"><inertial><mass value="0.001" /><inertia ixx="0.001" ixy="0" ixz="0" iyy="0.001" iyz="0" izz="0.001" /><origin rpy="0 0 0" xyz="0 0 0" /></inertial><visual name="Pole.008">
      <material name="None" />
      <origin rpy="0.00000 0.00000 0.00000" xyz="-0.00000 0.00000 -0.01250" />
      <geometry>
        <cylinder radius="0.01000" length="0.10000" />
      </geometry>
    </visual><collision name="Pole.008_collision">
      <origin rpy="0.00000 0.00000 0.00000" xyz="-0.00000 0.00000 -0.01250" />
      <geometry>
        <cylinder radius="0.01000" length="0.10000" />
      </geometry>
    </collision></link><joint name="Pole.008_link_z_joint" type="prismatic"><parent link="base_link" /><child link="Pole.008_link_virtual_z_link" /><origin rpy="0 0 0" xyz="0 0 0" /><axis xyz="0 0 1" /><limit lower="-10.0" upper="10.0" effort="1000.0" velocity="5.0" /></joint><joint name="Pole.008_link_y_joint" type="prismatic"><parent link="Pole.008_link_virtual_z_link" /><child link="Pole.008_link_virtual_y_link" /><origin rpy="0 0 0" xyz="0 0 0" /><axis xyz="0 1 0" /><limit lower="-10.0" upper="10.0" effort="1000.0" velocity="5.0" /></joint><joint name="Pole.008_link_x_joint" type="prismatic"><parent link="Pole.008_link_virtual_y_link" /><child link="Pole.008_link_virtual_x_link" /><origin rpy="0 0 0" xyz="0 0 0" /><axis xyz="1 0 0" /><limit lower="-10.0" upper="10.0" effort="1000.0" velocity="5.0" /></joint><joint name="Pole.008_link_roll_joint" type="revolute"><parent link="Pole.008_link_virtual_x_link" /><child link="Pole.008_link_virtual_roll_link" /><origin rpy="0 0 0" xyz="0 0 0" /><axis xyz="1 0 0" /><limit lower="-3.14159" upper="3.14159" effort="1000.0" velocity="5.0" /></joint><joint name="Pole.008_link_pitch_joint" type="revolute"><parent link="Pole.008_link_virtual_roll_link" /><child link="Pole.008_link_virtual_pitch_link" /><origin rpy="0 0 0" xyz="0 0 0" /><axis xyz="0 1 0" /><limit lower="-3.14159" upper="3.14159" effort="1000.0" velocity="5.0" /></joint><joint name="Pole.008_link_yaw_joint" type="revolute"><parent link="Pole.008_link_virtual_pitch_link" /><child link="Pole.008_link_virtual_yaw_link" /><origin rpy="0 0 0" xyz="0 0 0" /><axis xyz="0 0 1" /><limit lower="-3.14159" upper="3.14159" effort="1000.0" velocity="5.0" /></joint><link name="Pole.009_link_virtual_z_link"><inertial><mass value="0.001" /><inertia ixx="0.001" ixy="0" ixz="0" iyy="0.001" iyz="0" izz="0.001" /><origin rpy="0 0 0" xyz="0 0 0" /></inertial></link><link name="Pole.009_link_virtual_y_link"><inertial><mass value="0.001" /><inertia ixx="0.001" ixy="0" ixz="0" iyy="0.001" iyz="0" izz="0.001" /><origin rpy="0 0 0" xyz="0 0 0" /></inertial></link><link name="Pole.009_link_virtual_x_link"><inertial><mass value="0.001" /><inertia ixx="0.001" ixy="0" ixz="0" iyy="0.001" iyz="0" izz="0.001" /><origin rpy="0 0 0" xyz="0 0 0" /></inertial></link><link name="Pole.009_link_virtual_roll_link"><inertial><mass value="0.001" /><inertia ixx="0.001" ixy="0" ixz="0" iyy="0.001" iyz="0" izz="0.001" /><origin rpy="0 0 0" xyz="0 0 0" /></inertial></link><link name="Pole.009_link_virtual_pitch_link"><inertial><mass value="0.001" /><inertia ixx="0.001" ixy="0" ixz="0" iyy="0.001" iyz="0" izz="0.001" /><origin rpy="0 0 0" xyz="0 0 0" /></inertial></link><link name="Pole.009_link_virtual_yaw_link"><inertial><mass value="0.001" /><inertia ixx="0.001" ixy="0" ixz="0" iyy="0.001" iyz="0" izz="0.001" /><origin rpy="0 0 0" xyz="0 0 0" /></inertial><visual name="Pole.009">
      <material name="None" />
      <origin rpy="0.00000 0.00000 0.00000" xyz="-0.00000 0.00000 -0.01250" />
      <geometry>
        <cylinder radius="0.01000" length="0.10000" />
      </geometry>
    </visual><collision name="Pole.009_collision">
      <origin rpy="0.00000 0.00000 0.00000" xyz="-0.00000 0.00000 -0.01250" />
      <geometry>
        <cylinder radius="0.01000" length="0.10000" />
      </geometry>
    </collision></link><joint name="Pole.009_link_z_joint" type="prismatic"><parent link="base_link" /><child link="Pole.009_link_virtual_z_link" /><origin rpy="0 0 0" xyz="0 0 0" /><axis xyz="0 0 1" /><limit lower="-10.0" upper="10.0" effort="1000.0" velocity="5.0" /></joint><joint name="Pole.009_link_y_joint" type="prismatic"><parent link="Pole.009_link_virtual_z_link" /><child link="Pole.009_link_virtual_y_link" /><origin rpy="0 0 0" xyz="0 0 0" /><axis xyz="0 1 0" /><limit lower="-10.0" upper="10.0" effort="1000.0" velocity="5.0" /></joint><joint name="Pole.009_link_x_joint" type="prismatic"><parent link="Pole.009_link_virtual_y_link" /><child link="Pole.009_link_virtual_x_link" /><origin rpy="0 0 0" xyz="0 0 0" /><axis xyz="1 0 0" /><limit lower="-10.0" upper="10.0" effort="1000.0" velocity="5.0" /></joint><joint name="Pole.009_link_roll_joint" type="revolute"><parent link="Pole.009_link_virtual_x_link" /><child link="Pole.009_link_virtual_roll_link" /><origin rpy="0 0 0" xyz="0 0 0" /><axis xyz="1 0 0" /><limit lower="-3.14159" upper="3.14159" effort="1000.0" velocity="5.0" /></joint><joint name="Pole.009_link_pitch_joint" type="revolute"><parent link="Pole.009_link_virtual_roll_link" /><child link="Pole.009_link_virtual_pitch_link" /><origin rpy="0 0 0" xyz="0 0 0" /><axis xyz="0 1 0" /><limit lower="-3.14159" upper="3.14159" effort="1000.0" velocity="5.0" /></joint><joint name="Pole.009_link_yaw_joint" type="revolute"><parent link="Pole.009_link_virtual_pitch_link" /><child link="Pole.009_link_virtual_yaw_link" /><origin rpy="0 0 0" xyz="0 0 0" /><axis xyz="0 0 1" /><limit lower="-3.14159" upper="3.14159" effort="1000.0" velocity="5.0" /></joint><link name="Roof_link_virtual_z_link"><inertial><mass value="0.001" /><inertia ixx="0.001" ixy="0" ixz="0" iyy="0.001" iyz="0" izz="0.001" /><origin rpy="0 0 0" xyz="0 0 0" /></inertial></link><link name="Roof_link_virtual_y_link"><inertial><mass value="0.001" /><inertia ixx="0.001" ixy="0" ixz="0" iyy="0.001" iyz="0" izz="0.001" /><origin rpy="0 0 0" xyz="0 0 0" /></inertial></link><link name="Roof_link_virtual_x_link"><inertial><mass value="0.001" /><inertia ixx="0.001" ixy="0" ixz="0" iyy="0.001" iyz="0" izz="0.001" /><origin rpy="0 0 0" xyz="0 0 0" /></inertial></link><link name="Roof_link_virtual_roll_link"><inertial><mass value="0.001" /><inertia ixx="0.001" ixy="0" ixz="0" iyy="0.001" iyz="0" izz="0.001" /><origin rpy="0 0 0" xyz="0 0 0" /></inertial></link><link name="Roof_link_virtual_pitch_link"><inertial><mass value="0.001" /><inertia ixx="0.001" ixy="0" ixz="0" iyy="0.001" iyz="0" izz="0.001" /><origin rpy="0 0 0" xyz="0 0 0" /></inertial></link><link name="Roof_link_virtual_yaw_link"><inertial><mass value="0.001" /><inertia ixx="0.001" ixy="0" ixz="0" iyy="0.001" iyz="0" izz="0.001" /><origin rpy="0 0 0" xyz="0 0 0" /></inertial><visual name="Roof">
      <material name="None" />
      <origin rpy="0.00000 0.00000 0.00000" xyz="0.00000 -0.00000 -0.05000" />
      <geometry>
        <mesh filename="../meshes/stl/Cube.002.stl" scale="1.00000 1.00000 1.00000" />
      </geometry>
    </visual><collision name="Roof_collision">
      <origin rpy="0.00000 0.00000 0.00000" xyz="-0.00052 0.00052 -0.03557" />
      <geometry>
        <mesh filename="../meshes/stl/geometry_0.stl" scale="1.00000 1.00000 1.00000" />
      </geometry>
    </collision></link><joint name="Roof_link_z_joint" type="prismatic"><parent link="base_link" /><child link="Roof_link_virtual_z_link" /><origin rpy="0 0 0" xyz="0 0 0" /><axis xyz="0 0 1" /><limit lower="-10.0" upper="10.0" effort="1000.0" velocity="5.0" /></joint><joint name="Roof_link_y_joint" type="prismatic"><parent link="Roof_link_virtual_z_link" /><child link="Roof_link_virtual_y_link" /><origin rpy="0 0 0" xyz="0 0 0" /><axis xyz="0 1 0" /><limit lower="-10.0" upper="10.0" effort="1000.0" velocity="5.0" /></joint><joint name="Roof_link_x_joint" type="prismatic"><parent link="Roof_link_virtual_y_link" /><child link="Roof_link_virtual_x_link" /><origin rpy="0 0 0" xyz="0 0 0" /><axis xyz="1 0 0" /><limit lower="-10.0" upper="10.0" effort="1000.0" velocity="5.0" /></joint><joint name="Roof_link_roll_joint" type="revolute"><parent link="Roof_link_virtual_x_link" /><child link="Roof_link_virtual_roll_link" /><origin rpy="0 0 0" xyz="0 0 0" /><axis xyz="1 0 0" /><limit lower="-3.14159" upper="3.14159" effort="1000.0" velocity="5.0" /></joint><joint name="Roof_link_pitch_joint" type="revolute"><parent link="Roof_link_virtual_roll_link" /><child link="Roof_link_virtual_pitch_link" /><origin rpy="0 0 0" xyz="0 0 0" /><axis xyz="0 1 0" /><limit lower="-3.14159" upper="3.14159" effort="1000.0" velocity="5.0" /></joint><joint name="Roof_link_yaw_joint" type="revolute"><parent link="Roof_link_virtual_pitch_link" /><child link="Roof_link_virtual_yaw_link" /><origin rpy="0 0 0" xyz="0 0 0" /><axis xyz="0 0 1" /><limit lower="-3.14159" upper="3.14159" effort="1000.0" velocity="5.0" /></joint><link name="Pole.012_link_virtual_z_link"><inertial><mass value="0.001" /><inertia ixx="0.001" ixy="0" ixz="0" iyy="0.001" iyz="0" izz="0.001" /><origin rpy="0 0 0" xyz="0 0 0" /></inertial></link><link name="Pole.012_link_virtual_y_link"><inertial><mass value="0.001" /><inertia ixx="0.001" ixy="0" ixz="0" iyy="0.001" iyz="0" izz="0.001" /><origin rpy="0 0 0" xyz="0 0 0" /></inertial></link><link name="Pole.012_link_virtual_x_link"><inertial><mass value="0.001" /><inertia ixx="0.001" ixy="0" ixz="0" iyy="0.001" iyz="0" izz="0.001" /><origin rpy="0 0 0" xyz="0 0 0" /></inertial></link><link name="Pole.012_link_virtual_roll_link"><inertial><mass value="0.001" /><inertia ixx="0.001" ixy="0" ixz="0" iyy="0.001" iyz="0" izz="0.001" /><origin rpy="0 0 0" xyz="0 0 0" /></inertial></link><link name="Pole.012_link_virtual_pitch_link"><inertial><mass value="0.001" /><inertia ixx="0.001" ixy="0" ixz="0" iyy="0.001" iyz="0" izz="0.001" /><origin rpy="0 0 0" xyz="0 0 0" /></inertial></link><link name="Pole.012_link_virtual_yaw_link"><inertial><mass value="0.001" /><inertia ixx="0.001" ixy="0" ixz="0" iyy="0.001" iyz="0" izz="0.001" /><origin rpy="0 0 0" xyz="0 0 0" /></inertial><visual name="Pole.012">
      <material name="None" />
      <origin rpy="0.00000 0.00000 0.00000" xyz="-0.00000 -0.00000 -0.01250" />
      <geometry>
        <cylinder radius="0.01000" length="0.10000" />
      </geometry>
    </visual><collision name="Pole.012_collision">
      <origin rpy="0.00000 0.00000 0.00000" xyz="-0.00000 -0.00000 -0.01250" />
      <geometry>
        <cylinder radius="0.01000" length="0.10000" />
      </geometry>
    </collision></link><joint name="Pole.012_link_z_joint" type="prismatic"><parent link="base_link" /><child link="Pole.012_link_virtual_z_link" /><origin rpy="0 0 0" xyz="0 0 0" /><axis xyz="0 0 1" /><limit lower="-10.0" upper="10.0" effort="1000.0" velocity="5.0" /></joint><joint name="Pole.012_link_y_joint" type="prismatic"><parent link="Pole.012_link_virtual_z_link" /><child link="Pole.012_link_virtual_y_link" /><origin rpy="0 0 0" xyz="0 0 0" /><axis xyz="0 1 0" /><limit lower="-10.0" upper="10.0" effort="1000.0" velocity="5.0" /></joint><joint name="Pole.012_link_x_joint" type="prismatic"><parent link="Pole.012_link_virtual_y_link" /><child link="Pole.012_link_virtual_x_link" /><origin rpy="0 0 0" xyz="0 0 0" /><axis xyz="1 0 0" /><limit lower="-10.0" upper="10.0" effort="1000.0" velocity="5.0" /></joint><joint name="Pole.012_link_roll_joint" type="revolute"><parent link="Pole.012_link_virtual_x_link" /><child link="Pole.012_link_virtual_roll_link" /><origin rpy="0 0 0" xyz="0 0 0" /><axis xyz="1 0 0" /><limit lower="-3.14159" upper="3.14159" effort="1000.0" velocity="5.0" /></joint><joint name="Pole.012_link_pitch_joint" type="revolute"><parent link="Pole.012_link_virtual_roll_link" /><child link="Pole.012_link_virtual_pitch_link" /><origin rpy="0 0 0" xyz="0 0 0" /><axis xyz="0 1 0" /><limit lower="-3.14159" upper="3.14159" effort="1000.0" velocity="5.0" /></joint><joint name="Pole.012_link_yaw_joint" type="revolute"><parent link="Pole.012_link_virtual_pitch_link" /><child link="Pole.012_link_virtual_yaw_link" /><origin rpy="0 0 0" xyz="0 0 0" /><axis xyz="0 0 1" /><limit lower="-3.14159" upper="3.14159" effort="1000.0" velocity="5.0" /></joint><link name="Pole.013_link_virtual_z_link"><inertial><mass value="0.001" /><inertia ixx="0.001" ixy="0" ixz="0" iyy="0.001" iyz="0" izz="0.001" /><origin rpy="0 0 0" xyz="0 0 0" /></inertial></link><link name="Pole.013_link_virtual_y_link"><inertial><mass value="0.001" /><inertia ixx="0.001" ixy="0" ixz="0" iyy="0.001" iyz="0" izz="0.001" /><origin rpy="0 0 0" xyz="0 0 0" /></inertial></link><link name="Pole.013_link_virtual_x_link"><inertial><mass value="0.001" /><inertia ixx="0.001" ixy="0" ixz="0" iyy="0.001" iyz="0" izz="0.001" /><origin rpy="0 0 0" xyz="0 0 0" /></inertial></link><link name="Pole.013_link_virtual_roll_link"><inertial><mass value="0.001" /><inertia ixx="0.001" ixy="0" ixz="0" iyy="0.001" iyz="0" izz="0.001" /><origin rpy="0 0 0" xyz="0 0 0" /></inertial></link><link name="Pole.013_link_virtual_pitch_link"><inertial><mass value="0.001" /><inertia ixx="0.001" ixy="0" ixz="0" iyy="0.001" iyz="0" izz="0.001" /><origin rpy="0 0 0" xyz="0 0 0" /></inertial></link><link name="Pole.013_link_virtual_yaw_link"><inertial><mass value="0.001" /><inertia ixx="0.001" ixy="0" ixz="0" iyy="0.001" iyz="0" izz="0.001" /><origin rpy="0 0 0" xyz="0 0 0" /></inertial><visual name="Pole.013">
      <material name="None" />
      <origin rpy="0.00000 0.00000 0.00000" xyz="0.00000 -0.00000 -0.01250" />
      <geometry>
        <cylinder radius="0.01000" length="0.10000" />
      </geometry>
    </visual><collision name="Pole.013_collision">
      <origin rpy="0.00000 0.00000 0.00000" xyz="0.00000 -0.00000 -0.01250" />
      <geometry>
        <cylinder radius="0.01000" length="0.10000" />
      </geometry>
    </collision></link><joint name="Pole.013_link_z_joint" type="prismatic"><parent link="base_link" /><child link="Pole.013_link_virtual_z_link" /><origin rpy="0 0 0" xyz="0 0 0" /><axis xyz="0 0 1" /><limit lower="-10.0" upper="10.0" effort="1000.0" velocity="5.0" /></joint><joint name="Pole.013_link_y_joint" type="prismatic"><parent link="Pole.013_link_virtual_z_link" /><child link="Pole.013_link_virtual_y_link" /><origin rpy="0 0 0" xyz="0 0 0" /><axis xyz="0 1 0" /><limit lower="-10.0" upper="10.0" effort="1000.0" velocity="5.0" /></joint><joint name="Pole.013_link_x_joint" type="prismatic"><parent link="Pole.013_link_virtual_y_link" /><child link="Pole.013_link_virtual_x_link" /><origin rpy="0 0 0" xyz="0 0 0" /><axis xyz="1 0 0" /><limit lower="-10.0" upper="10.0" effort="1000.0" velocity="5.0" /></joint><joint name="Pole.013_link_roll_joint" type="revolute"><parent link="Pole.013_link_virtual_x_link" /><child link="Pole.013_link_virtual_roll_link" /><origin rpy="0 0 0" xyz="0 0 0" /><axis xyz="1 0 0" /><limit lower="-3.14159" upper="3.14159" effort="1000.0" velocity="5.0" /></joint><joint name="Pole.013_link_pitch_joint" type="revolute"><parent link="Pole.013_link_virtual_roll_link" /><child link="Pole.013_link_virtual_pitch_link" /><origin rpy="0 0 0" xyz="0 0 0" /><axis xyz="0 1 0" /><limit lower="-3.14159" upper="3.14159" effort="1000.0" velocity="5.0" /></joint><joint name="Pole.013_link_yaw_joint" type="revolute"><parent link="Pole.013_link_virtual_pitch_link" /><child link="Pole.013_link_virtual_yaw_link" /><origin rpy="0 0 0" xyz="0 0 0" /><axis xyz="0 0 1" /><limit lower="-3.14159" upper="3.14159" effort="1000.0" velocity="5.0" /></joint><link name="Pole.014_link_virtual_z_link"><inertial><mass value="0.001" /><inertia ixx="0.001" ixy="0" ixz="0" iyy="0.001" iyz="0" izz="0.001" /><origin rpy="0 0 0" xyz="0 0 0" /></inertial></link><link name="Pole.014_link_virtual_y_link"><inertial><mass value="0.001" /><inertia ixx="0.001" ixy="0" ixz="0" iyy="0.001" iyz="0" izz="0.001" /><origin rpy="0 0 0" xyz="0 0 0" /></inertial></link><link name="Pole.014_link_virtual_x_link"><inertial><mass value="0.001" /><inertia ixx="0.001" ixy="0" ixz="0" iyy="0.001" iyz="0" izz="0.001" /><origin rpy="0 0 0" xyz="0 0 0" /></inertial></link><link name="Pole.014_link_virtual_roll_link"><inertial><mass value="0.001" /><inertia ixx="0.001" ixy="0" ixz="0" iyy="0.001" iyz="0" izz="0.001" /><origin rpy="0 0 0" xyz="0 0 0" /></inertial></link><link name="Pole.014_link_virtual_pitch_link"><inertial><mass value="0.001" /><inertia ixx="0.001" ixy="0" ixz="0" iyy="0.001" iyz="0" izz="0.001" /><origin rpy="0 0 0" xyz="0 0 0" /></inertial></link><link name="Pole.014_link_virtual_yaw_link"><inertial><mass value="0.001" /><inertia ixx="0.001" ixy="0" ixz="0" iyy="0.001" iyz="0" izz="0.001" /><origin rpy="0 0 0" xyz="0 0 0" /></inertial><visual name="Pole.014">
      <material name="None" />
      <origin rpy="0.00000 0.00000 0.00000" xyz="0.00000 -0.00000 -0.01250" />
      <geometry>
        <cylinder radius="0.01000" length="0.10000" />
      </geometry>
    </visual><collision name="Pole.014_collision">
      <origin rpy="0.00000 0.00000 0.00000" xyz="0.00000 -0.00000 -0.01250" />
      <geometry>
        <cylinder radius="0.01000" length="0.10000" />
      </geometry>
    </collision></link><joint name="Pole.014_link_z_joint" type="prismatic"><parent link="base_link" /><child link="Pole.014_link_virtual_z_link" /><origin rpy="0 0 0" xyz="0 0 0" /><axis xyz="0 0 1" /><limit lower="-10.0" upper="10.0" effort="1000.0" velocity="5.0" /></joint><joint name="Pole.014_link_y_joint" type="prismatic"><parent link="Pole.014_link_virtual_z_link" /><child link="Pole.014_link_virtual_y_link" /><origin rpy="0 0 0" xyz="0 0 0" /><axis xyz="0 1 0" /><limit lower="-10.0" upper="10.0" effort="1000.0" velocity="5.0" /></joint><joint name="Pole.014_link_x_joint" type="prismatic"><parent link="Pole.014_link_virtual_y_link" /><child link="Pole.014_link_virtual_x_link" /><origin rpy="0 0 0" xyz="0 0 0" /><axis xyz="1 0 0" /><limit lower="-10.0" upper="10.0" effort="1000.0" velocity="5.0" /></joint><joint name="Pole.014_link_roll_joint" type="revolute"><parent link="Pole.014_link_virtual_x_link" /><child link="Pole.014_link_virtual_roll_link" /><origin rpy="0 0 0" xyz="0 0 0" /><axis xyz="1 0 0" /><limit lower="-3.14159" upper="3.14159" effort="1000.0" velocity="5.0" /></joint><joint name="Pole.014_link_pitch_joint" type="revolute"><parent link="Pole.014_link_virtual_roll_link" /><child link="Pole.014_link_virtual_pitch_link" /><origin rpy="0 0 0" xyz="0 0 0" /><axis xyz="0 1 0" /><limit lower="-3.14159" upper="3.14159" effort="1000.0" velocity="5.0" /></joint><joint name="Pole.014_link_yaw_joint" type="revolute"><parent link="Pole.014_link_virtual_pitch_link" /><child link="Pole.014_link_virtual_yaw_link" /><origin rpy="0 0 0" xyz="0 0 0" /><axis xyz="0 0 1" /><limit lower="-3.14159" upper="3.14159" effort="1000.0" velocity="5.0" /></joint><link name="Pole.015_link_virtual_z_link"><inertial><mass value="0.001" /><inertia ixx="0.001" ixy="0" ixz="0" iyy="0.001" iyz="0" izz="0.001" /><origin rpy="0 0 0" xyz="0 0 0" /></inertial></link><link name="Pole.015_link_virtual_y_link"><inertial><mass value="0.001" /><inertia ixx="0.001" ixy="0" ixz="0" iyy="0.001" iyz="0" izz="0.001" /><origin rpy="0 0 0" xyz="0 0 0" /></inertial></link><link name="Pole.015_link_virtual_x_link"><inertial><mass value="0.001" /><inertia ixx="0.001" ixy="0" ixz="0" iyy="0.001" iyz="0" izz="0.001" /><origin rpy="0 0 0" xyz="0 0 0" /></inertial></link><link name="Pole.015_link_virtual_roll_link"><inertial><mass value="0.001" /><inertia ixx="0.001" ixy="0" ixz="0" iyy="0.001" iyz="0" izz="0.001" /><origin rpy="0 0 0" xyz="0 0 0" /></inertial></link><link name="Pole.015_link_virtual_pitch_link"><inertial><mass value="0.001" /><inertia ixx="0.001" ixy="0" ixz="0" iyy="0.001" iyz="0" izz="0.001" /><origin rpy="0 0 0" xyz="0 0 0" /></inertial></link><link name="Pole.015_link_virtual_yaw_link"><inertial><mass value="0.001" /><inertia ixx="0.001" ixy="0" ixz="0" iyy="0.001" iyz="0" izz="0.001" /><origin rpy="0 0 0" xyz="0 0 0" /></inertial><visual name="Pole.015">
      <material name="None" />
      <origin rpy="0.00000 0.00000 0.00000" xyz="0.00000 -0.00000 -0.01250" />
      <geometry>
        <cylinder radius="0.01000" length="0.10000" />
      </geometry>
    </visual><collision name="Pole.015_collision">
      <origin rpy="0.00000 0.00000 0.00000" xyz="0.00000 -0.00000 -0.01250" />
      <geometry>
        <cylinder radius="0.01000" length="0.10000" />
      </geometry>
    </collision></link><joint name="Pole.015_link_z_joint" type="prismatic"><parent link="base_link" /><child link="Pole.015_link_virtual_z_link" /><origin rpy="0 0 0" xyz="0 0 0" /><axis xyz="0 0 1" /><limit lower="-10.0" upper="10.0" effort="1000.0" velocity="5.0" /></joint><joint name="Pole.015_link_y_joint" type="prismatic"><parent link="Pole.015_link_virtual_z_link" /><child link="Pole.015_link_virtual_y_link" /><origin rpy="0 0 0" xyz="0 0 0" /><axis xyz="0 1 0" /><limit lower="-10.0" upper="10.0" effort="1000.0" velocity="5.0" /></joint><joint name="Pole.015_link_x_joint" type="prismatic"><parent link="Pole.015_link_virtual_y_link" /><child link="Pole.015_link_virtual_x_link" /><origin rpy="0 0 0" xyz="0 0 0" /><axis xyz="1 0 0" /><limit lower="-10.0" upper="10.0" effort="1000.0" velocity="5.0" /></joint><joint name="Pole.015_link_roll_joint" type="revolute"><parent link="Pole.015_link_virtual_x_link" /><child link="Pole.015_link_virtual_roll_link" /><origin rpy="0 0 0" xyz="0 0 0" /><axis xyz="1 0 0" /><limit lower="-3.14159" upper="3.14159" effort="1000.0" velocity="5.0" /></joint><joint name="Pole.015_link_pitch_joint" type="revolute"><parent link="Pole.015_link_virtual_roll_link" /><child link="Pole.015_link_virtual_pitch_link" /><origin rpy="0 0 0" xyz="0 0 0" /><axis xyz="0 1 0" /><limit lower="-3.14159" upper="3.14159" effort="1000.0" velocity="5.0" /></joint><joint name="Pole.015_link_yaw_joint" type="revolute"><parent link="Pole.015_link_virtual_pitch_link" /><child link="Pole.015_link_virtual_yaw_link" /><origin rpy="0 0 0" xyz="0 0 0" /><axis xyz="0 0 1" /><limit lower="-3.14159" upper="3.14159" effort="1000.0" velocity="5.0" /></joint><link name="Pole.016_link_virtual_z_link"><inertial><mass value="0.001" /><inertia ixx="0.001" ixy="0" ixz="0" iyy="0.001" iyz="0" izz="0.001" /><origin rpy="0 0 0" xyz="0 0 0" /></inertial></link><link name="Pole.016_link_virtual_y_link"><inertial><mass value="0.001" /><inertia ixx="0.001" ixy="0" ixz="0" iyy="0.001" iyz="0" izz="0.001" /><origin rpy="0 0 0" xyz="0 0 0" /></inertial></link><link name="Pole.016_link_virtual_x_link"><inertial><mass value="0.001" /><inertia ixx="0.001" ixy="0" ixz="0" iyy="0.001" iyz="0" izz="0.001" /><origin rpy="0 0 0" xyz="0 0 0" /></inertial></link><link name="Pole.016_link_virtual_roll_link"><inertial><mass value="0.001" /><inertia ixx="0.001" ixy="0" ixz="0" iyy="0.001" iyz="0" izz="0.001" /><origin rpy="0 0 0" xyz="0 0 0" /></inertial></link><link name="Pole.016_link_virtual_pitch_link"><inertial><mass value="0.001" /><inertia ixx="0.001" ixy="0" ixz="0" iyy="0.001" iyz="0" izz="0.001" /><origin rpy="0 0 0" xyz="0 0 0" /></inertial></link><link name="Pole.016_link_virtual_yaw_link"><inertial><mass value="0.001" /><inertia ixx="0.001" ixy="0" ixz="0" iyy="0.001" iyz="0" izz="0.001" /><origin rpy="0 0 0" xyz="0 0 0" /></inertial><visual name="Pole.016">
      <material name="None" />
      <origin rpy="0.00000 0.00000 0.00000" xyz="0.00000 0.00000 -0.01250" />
      <geometry>
        <cylinder radius="0.01000" length="0.10000" />
      </geometry>
    </visual><collision name="Pole.016_collision">
      <origin rpy="0.00000 0.00000 0.00000" xyz="0.00000 0.00000 -0.01250" />
      <geometry>
        <cylinder radius="0.01000" length="0.10000" />
      </geometry>
    </collision></link><joint name="Pole.016_link_z_joint" type="prismatic"><parent link="base_link" /><child link="Pole.016_link_virtual_z_link" /><origin rpy="0 0 0" xyz="0 0 0" /><axis xyz="0 0 1" /><limit lower="-10.0" upper="10.0" effort="1000.0" velocity="5.0" /></joint><joint name="Pole.016_link_y_joint" type="prismatic"><parent link="Pole.016_link_virtual_z_link" /><child link="Pole.016_link_virtual_y_link" /><origin rpy="0 0 0" xyz="0 0 0" /><axis xyz="0 1 0" /><limit lower="-10.0" upper="10.0" effort="1000.0" velocity="5.0" /></joint><joint name="Pole.016_link_x_joint" type="prismatic"><parent link="Pole.016_link_virtual_y_link" /><child link="Pole.016_link_virtual_x_link" /><origin rpy="0 0 0" xyz="0 0 0" /><axis xyz="1 0 0" /><limit lower="-10.0" upper="10.0" effort="1000.0" velocity="5.0" /></joint><joint name="Pole.016_link_roll_joint" type="revolute"><parent link="Pole.016_link_virtual_x_link" /><child link="Pole.016_link_virtual_roll_link" /><origin rpy="0 0 0" xyz="0 0 0" /><axis xyz="1 0 0" /><limit lower="-3.14159" upper="3.14159" effort="1000.0" velocity="5.0" /></joint><joint name="Pole.016_link_pitch_joint" type="revolute"><parent link="Pole.016_link_virtual_roll_link" /><child link="Pole.016_link_virtual_pitch_link" /><origin rpy="0 0 0" xyz="0 0 0" /><axis xyz="0 1 0" /><limit lower="-3.14159" upper="3.14159" effort="1000.0" velocity="5.0" /></joint><joint name="Pole.016_link_yaw_joint" type="revolute"><parent link="Pole.016_link_virtual_pitch_link" /><child link="Pole.016_link_virtual_yaw_link" /><origin rpy="0 0 0" xyz="0 0 0" /><axis xyz="0 0 1" /><limit lower="-3.14159" upper="3.14159" effort="1000.0" velocity="5.0" /></joint><link name="Pole.017_link_virtual_z_link"><inertial><mass value="0.001" /><inertia ixx="0.001" ixy="0" ixz="0" iyy="0.001" iyz="0" izz="0.001" /><origin rpy="0 0 0" xyz="0 0 0" /></inertial></link><link name="Pole.017_link_virtual_y_link"><inertial><mass value="0.001" /><inertia ixx="0.001" ixy="0" ixz="0" iyy="0.001" iyz="0" izz="0.001" /><origin rpy="0 0 0" xyz="0 0 0" /></inertial></link><link name="Pole.017_link_virtual_x_link"><inertial><mass value="0.001" /><inertia ixx="0.001" ixy="0" ixz="0" iyy="0.001" iyz="0" izz="0.001" /><origin rpy="0 0 0" xyz="0 0 0" /></inertial></link><link name="Pole.017_link_virtual_roll_link"><inertial><mass value="0.001" /><inertia ixx="0.001" ixy="0" ixz="0" iyy="0.001" iyz="0" izz="0.001" /><origin rpy="0 0 0" xyz="0 0 0" /></inertial></link><link name="Pole.017_link_virtual_pitch_link"><inertial><mass value="0.001" /><inertia ixx="0.001" ixy="0" ixz="0" iyy="0.001" iyz="0" izz="0.001" /><origin rpy="0 0 0" xyz="0 0 0" /></inertial></link><link name="Pole.017_link_virtual_yaw_link"><inertial><mass value="0.001" /><inertia ixx="0.001" ixy="0" ixz="0" iyy="0.001" iyz="0" izz="0.001" /><origin rpy="0 0 0" xyz="0 0 0" /></inertial><visual name="Pole.017">
      <material name="None" />
      <origin rpy="0.00000 0.00000 0.00000" xyz="0.00000 0.00000 -0.01250" />
      <geometry>
        <cylinder radius="0.01000" length="0.10000" />
      </geometry>
    </visual><collision name="Pole.017_collision">
      <origin rpy="0.00000 0.00000 0.00000" xyz="0.00000 0.00000 -0.01250" />
      <geometry>
        <cylinder radius="0.01000" length="0.10000" />
      </geometry>
    </collision></link><joint name="Pole.017_link_z_joint" type="prismatic"><parent link="base_link" /><child link="Pole.017_link_virtual_z_link" /><origin rpy="0 0 0" xyz="0 0 0" /><axis xyz="0 0 1" /><limit lower="-10.0" upper="10.0" effort="1000.0" velocity="5.0" /></joint><joint name="Pole.017_link_y_joint" type="prismatic"><parent link="Pole.017_link_virtual_z_link" /><child link="Pole.017_link_virtual_y_link" /><origin rpy="0 0 0" xyz="0 0 0" /><axis xyz="0 1 0" /><limit lower="-10.0" upper="10.0" effort="1000.0" velocity="5.0" /></joint><joint name="Pole.017_link_x_joint" type="prismatic"><parent link="Pole.017_link_virtual_y_link" /><child link="Pole.017_link_virtual_x_link" /><origin rpy="0 0 0" xyz="0 0 0" /><axis xyz="1 0 0" /><limit lower="-10.0" upper="10.0" effort="1000.0" velocity="5.0" /></joint><joint name="Pole.017_link_roll_joint" type="revolute"><parent link="Pole.017_link_virtual_x_link" /><child link="Pole.017_link_virtual_roll_link" /><origin rpy="0 0 0" xyz="0 0 0" /><axis xyz="1 0 0" /><limit lower="-3.14159" upper="3.14159" effort="1000.0" velocity="5.0" /></joint><joint name="Pole.017_link_pitch_joint" type="revolute"><parent link="Pole.017_link_virtual_roll_link" /><child link="Pole.017_link_virtual_pitch_link" /><origin rpy="0 0 0" xyz="0 0 0" /><axis xyz="0 1 0" /><limit lower="-3.14159" upper="3.14159" effort="1000.0" velocity="5.0" /></joint><joint name="Pole.017_link_yaw_joint" type="revolute"><parent link="Pole.017_link_virtual_pitch_link" /><child link="Pole.017_link_virtual_yaw_link" /><origin rpy="0 0 0" xyz="0 0 0" /><axis xyz="0 0 1" /><limit lower="-3.14159" upper="3.14159" effort="1000.0" velocity="5.0" /></joint><link name="Pole.018_link_virtual_z_link"><inertial><mass value="0.001" /><inertia ixx="0.001" ixy="0" ixz="0" iyy="0.001" iyz="0" izz="0.001" /><origin rpy="0 0 0" xyz="0 0 0" /></inertial></link><link name="Pole.018_link_virtual_y_link"><inertial><mass value="0.001" /><inertia ixx="0.001" ixy="0" ixz="0" iyy="0.001" iyz="0" izz="0.001" /><origin rpy="0 0 0" xyz="0 0 0" /></inertial></link><link name="Pole.018_link_virtual_x_link"><inertial><mass value="0.001" /><inertia ixx="0.001" ixy="0" ixz="0" iyy="0.001" iyz="0" izz="0.001" /><origin rpy="0 0 0" xyz="0 0 0" /></inertial></link><link name="Pole.018_link_virtual_roll_link"><inertial><mass value="0.001" /><inertia ixx="0.001" ixy="0" ixz="0" iyy="0.001" iyz="0" izz="0.001" /><origin rpy="0 0 0" xyz="0 0 0" /></inertial></link><link name="Pole.018_link_virtual_pitch_link"><inertial><mass value="0.001" /><inertia ixx="0.001" ixy="0" ixz="0" iyy="0.001" iyz="0" izz="0.001" /><origin rpy="0 0 0" xyz="0 0 0" /></inertial></link><link name="Pole.018_link_virtual_yaw_link"><inertial><mass value="0.001" /><inertia ixx="0.001" ixy="0" ixz="0" iyy="0.001" iyz="0" izz="0.001" /><origin rpy="0 0 0" xyz="0 0 0" /></inertial><visual name="Pole.018">
      <material name="None" />
      <origin rpy="0.00000 0.00000 0.00000" xyz="0.00000 0.00000 -0.01250" />
      <geometry>
        <cylinder radius="0.01000" length="0.10000" />
      </geometry>
    </visual><collision name="Pole.018_collision">
      <origin rpy="0.00000 0.00000 0.00000" xyz="0.00000 0.00000 -0.01250" />
      <geometry>
        <cylinder radius="0.01000" length="0.10000" />
      </geometry>
    </collision></link><joint name="Pole.018_link_z_joint" type="prismatic"><parent link="base_link" /><child link="Pole.018_link_virtual_z_link" /><origin rpy="0 0 0" xyz="0 0 0" /><axis xyz="0 0 1" /><limit lower="-10.0" upper="10.0" effort="1000.0" velocity="5.0" /></joint><joint name="Pole.018_link_y_joint" type="prismatic"><parent link="Pole.018_link_virtual_z_link" /><child link="Pole.018_link_virtual_y_link" /><origin rpy="0 0 0" xyz="0 0 0" /><axis xyz="0 1 0" /><limit lower="-10.0" upper="10.0" effort="1000.0" velocity="5.0" /></joint><joint name="Pole.018_link_x_joint" type="prismatic"><parent link="Pole.018_link_virtual_y_link" /><child link="Pole.018_link_virtual_x_link" /><origin rpy="0 0 0" xyz="0 0 0" /><axis xyz="1 0 0" /><limit lower="-10.0" upper="10.0" effort="1000.0" velocity="5.0" /></joint><joint name="Pole.018_link_roll_joint" type="revolute"><parent link="Pole.018_link_virtual_x_link" /><child link="Pole.018_link_virtual_roll_link" /><origin rpy="0 0 0" xyz="0 0 0" /><axis xyz="1 0 0" /><limit lower="-3.14159" upper="3.14159" effort="1000.0" velocity="5.0" /></joint><joint name="Pole.018_link_pitch_joint" type="revolute"><parent link="Pole.018_link_virtual_roll_link" /><child link="Pole.018_link_virtual_pitch_link" /><origin rpy="0 0 0" xyz="0 0 0" /><axis xyz="0 1 0" /><limit lower="-3.14159" upper="3.14159" effort="1000.0" velocity="5.0" /></joint><joint name="Pole.018_link_yaw_joint" type="revolute"><parent link="Pole.018_link_virtual_pitch_link" /><child link="Pole.018_link_virtual_yaw_link" /><origin rpy="0 0 0" xyz="0 0 0" /><axis xyz="0 0 1" /><limit lower="-3.14159" upper="3.14159" effort="1000.0" velocity="5.0" /></joint></robot>
